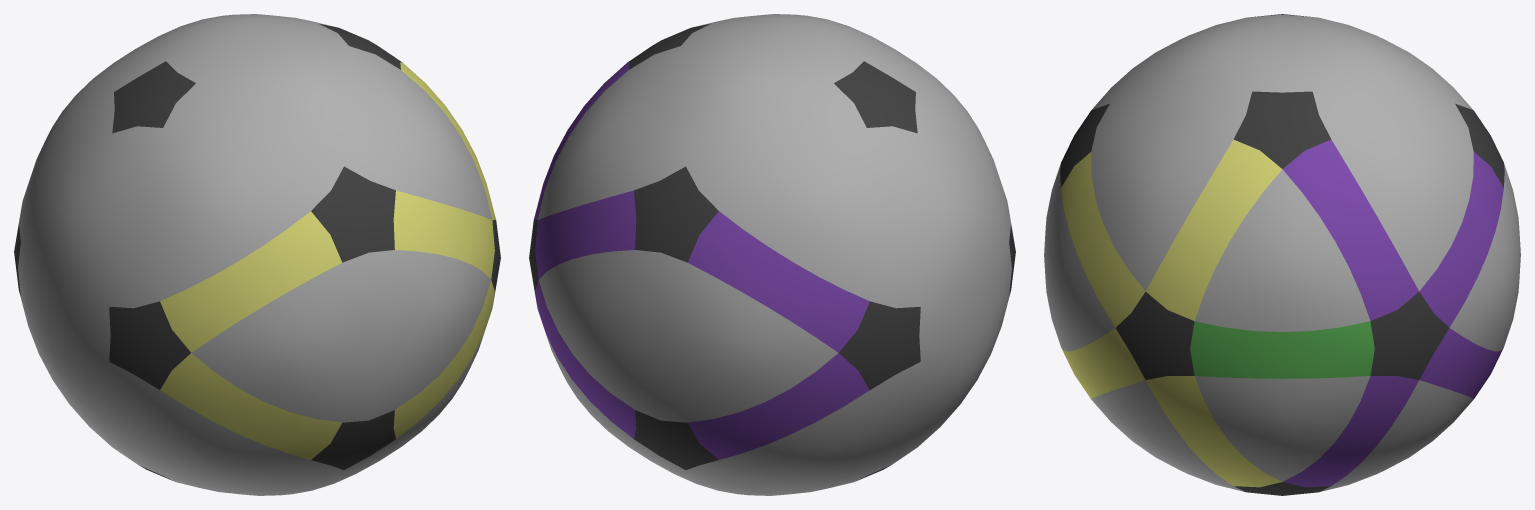
The model's file is ShapesCool_000v002.fbx.
3 renders of one model, left to right at view 1: azimuth 30°, elevation 25°; view 2: azimuth 150°, elevation 25°; view 3: azimuth 270°, elevation 25°, orthographic.
Parts seen in each view (by area): view 1: pSolid1; view 2: pSolid1; view 3: pSolid1.
Part boxes in pixels (left/top/right/bottom): pSolid1: left=14, top=14, right=500, bottom=495; pSolid1: left=529, top=14, right=1015, bottom=495; pSolid1: left=1044, top=14, right=1520, bottom=495.
Bounding box in the file's own units: 1.44 × 1.44 × 1.44.
